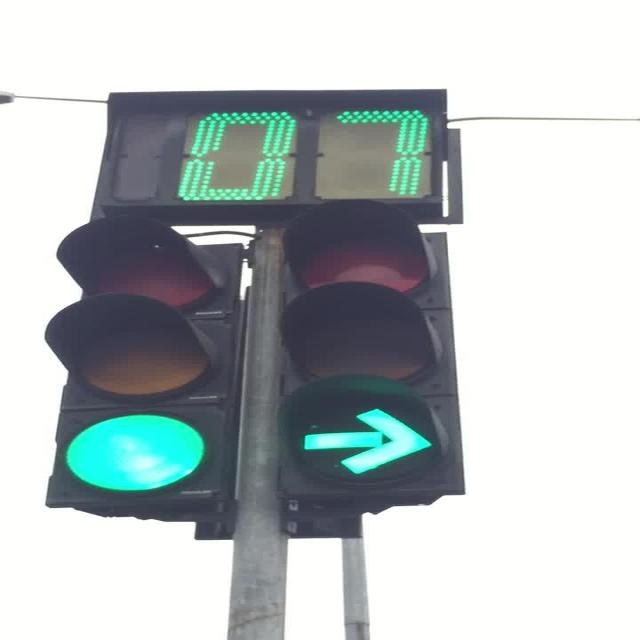traffic light: (274, 199, 466, 534), (43, 217, 248, 528), (89, 89, 462, 226)
